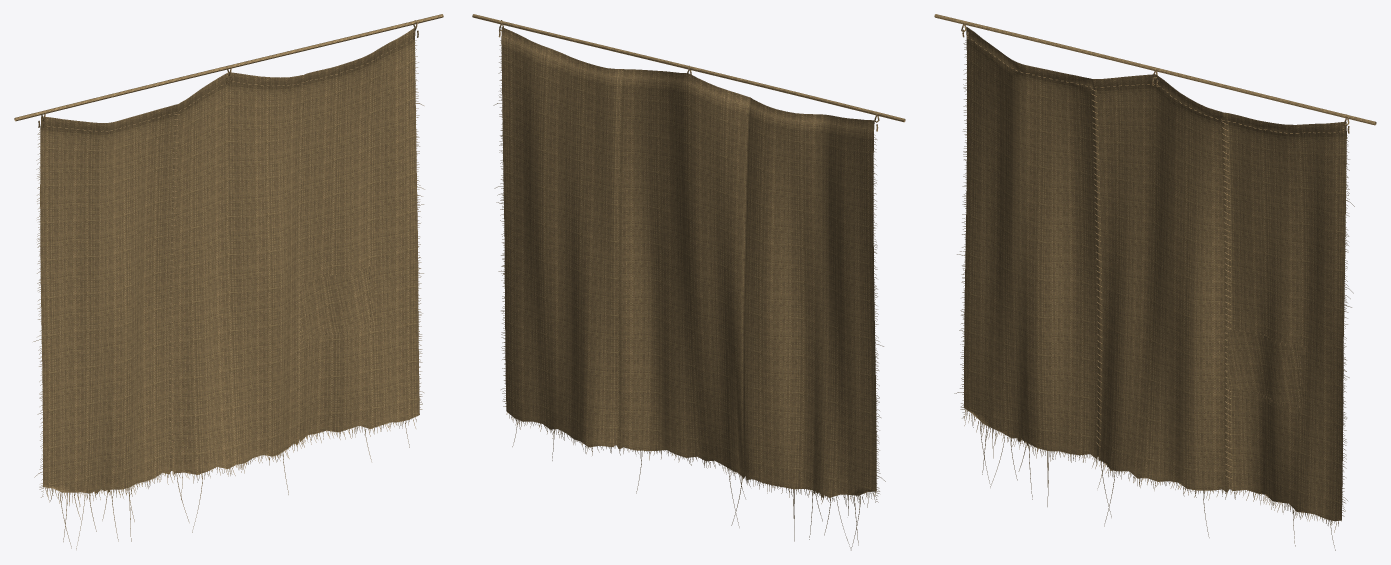
The model's file is jute_panel_b.glb.
The picture shows the model from 3 angles, left to right: view 1: azimuth 30°, elevation 25°; view 2: azimuth 150°, elevation 25°; view 3: azimuth 330°, elevation 25°; orthographic projection. The views are drawn at different scales.
Parts seen in each view (by area): view 1: jute_panel_b; view 2: jute_panel_b; view 3: jute_panel_b.
Part boxes in pixels (x1,y1,x2,y2): jute_panel_b: (14, 14, 443, 549); jute_panel_b: (472, 14, 905, 550); jute_panel_b: (934, 14, 1376, 550).
Bounding box in the file's own units: 2.3 × 2.33 × 0.168.
1 material, 1 textured.
